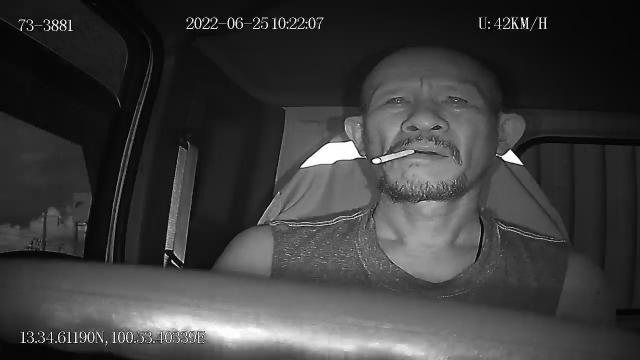SafeDriving: (376, 86, 418, 117), (436, 85, 476, 112)
Smoking: (372, 148, 413, 165)
